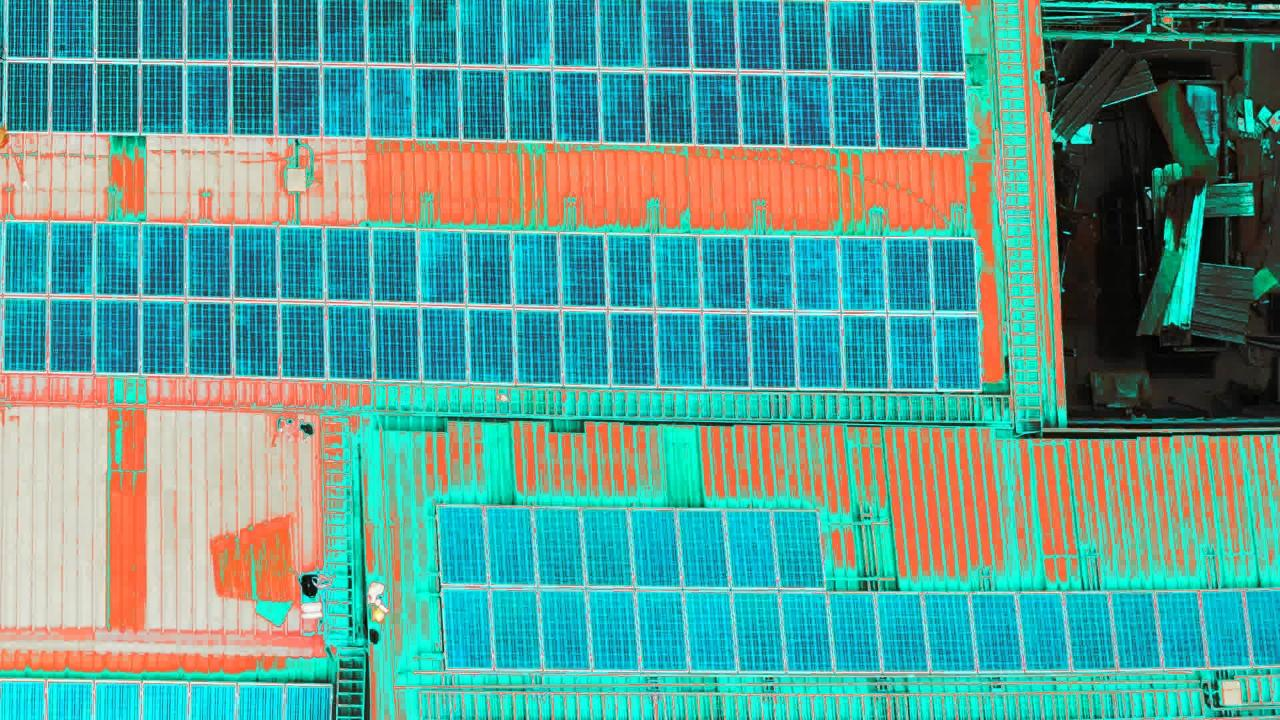clean: (5, 223, 982, 384), (6, 1, 967, 140)
dirty: (440, 505, 827, 673), (824, 588, 1280, 667)
